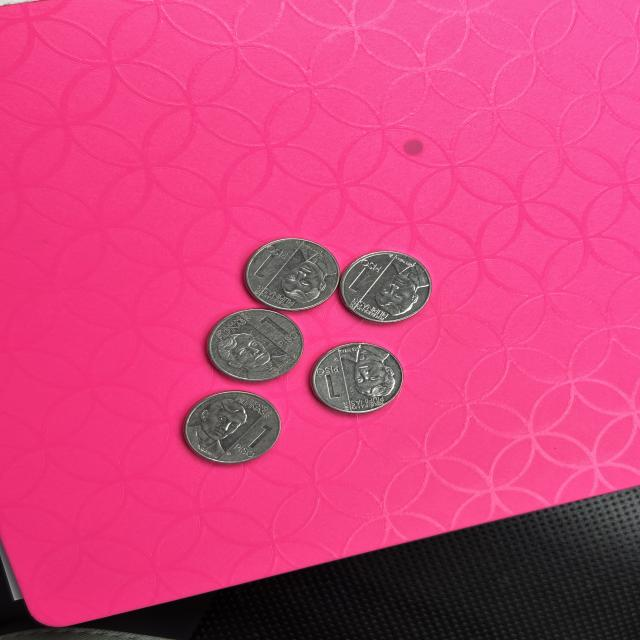1_New_Front: (247, 315, 300, 352), (238, 422, 282, 459), (316, 362, 350, 407), (351, 252, 378, 294), (255, 244, 283, 282)
